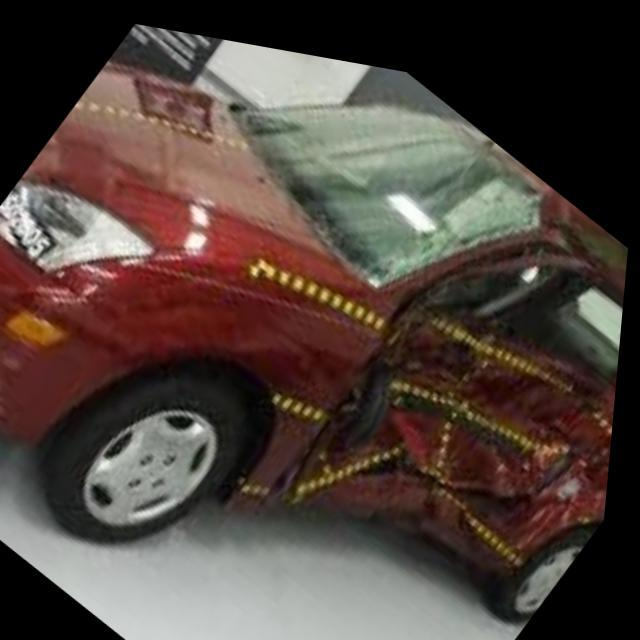dislocated part: (244, 127, 631, 559)
